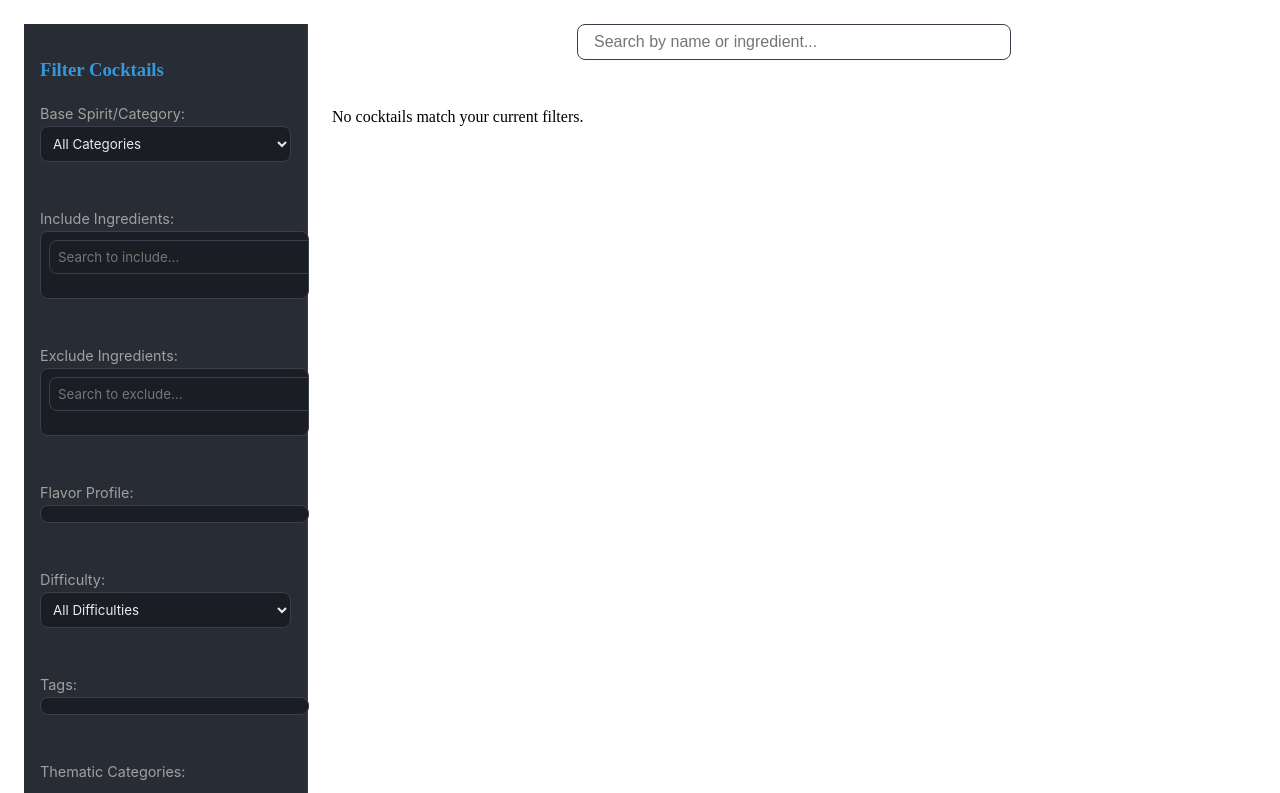
Test: CategoriesOverviewPage › filters cocktails when typing in search input
Step 1. Type "mojito" into the field with placeholder "Search by name or ingredient..." → (794, 42), box top-left (577, 24), bottom-right (1011, 60)
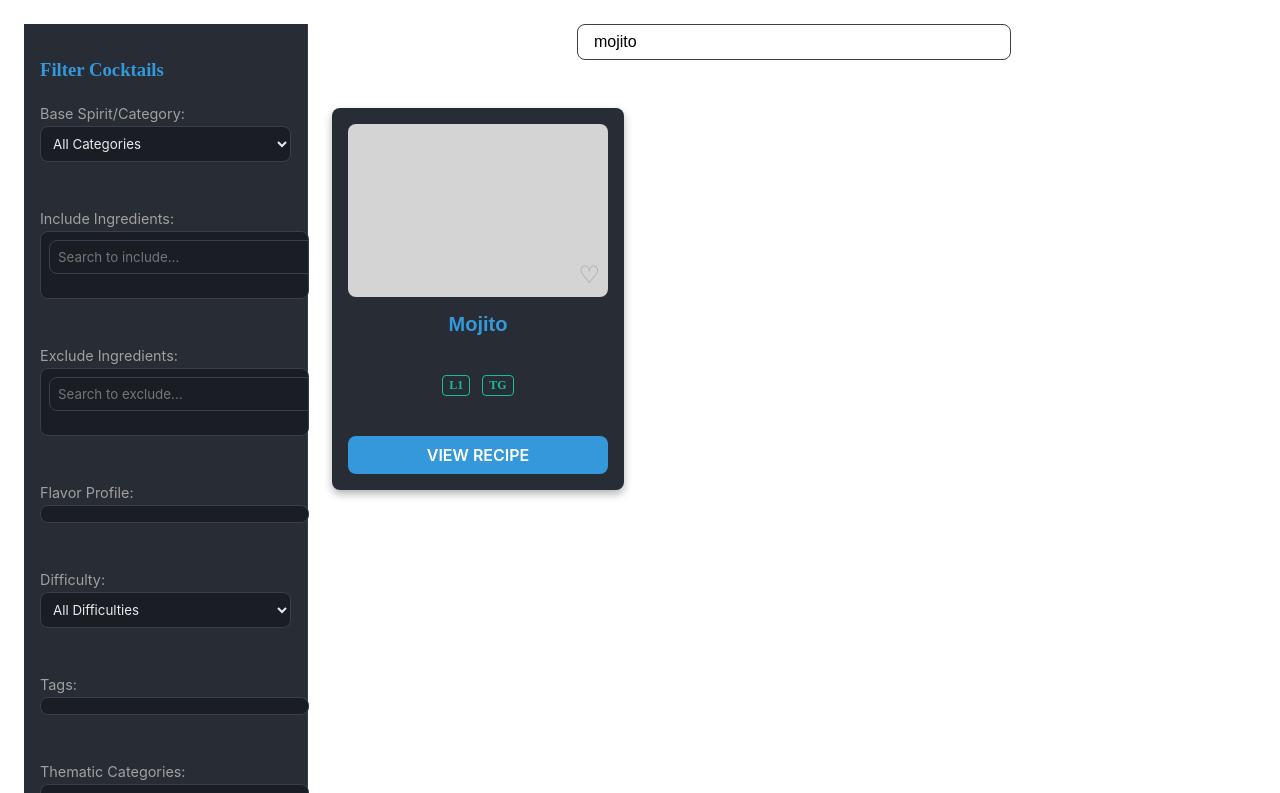
Result: the heading "Mojito" is shown at top-left (449, 313), bottom-right (508, 335)
